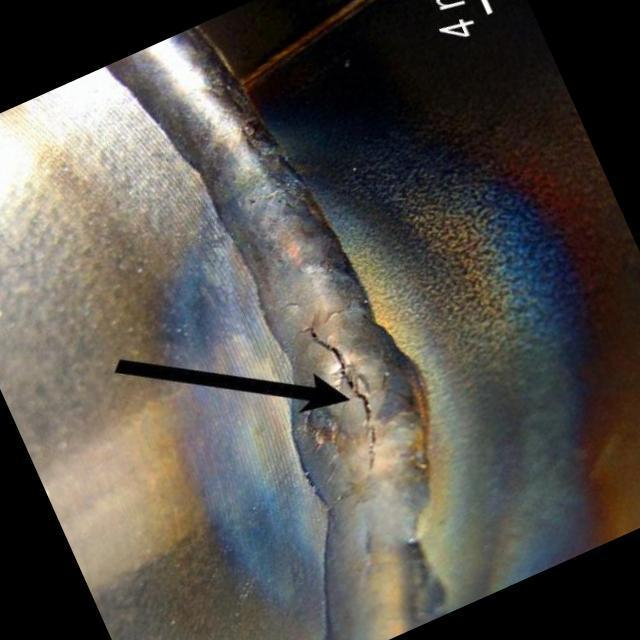defect: (289, 320, 381, 473)
